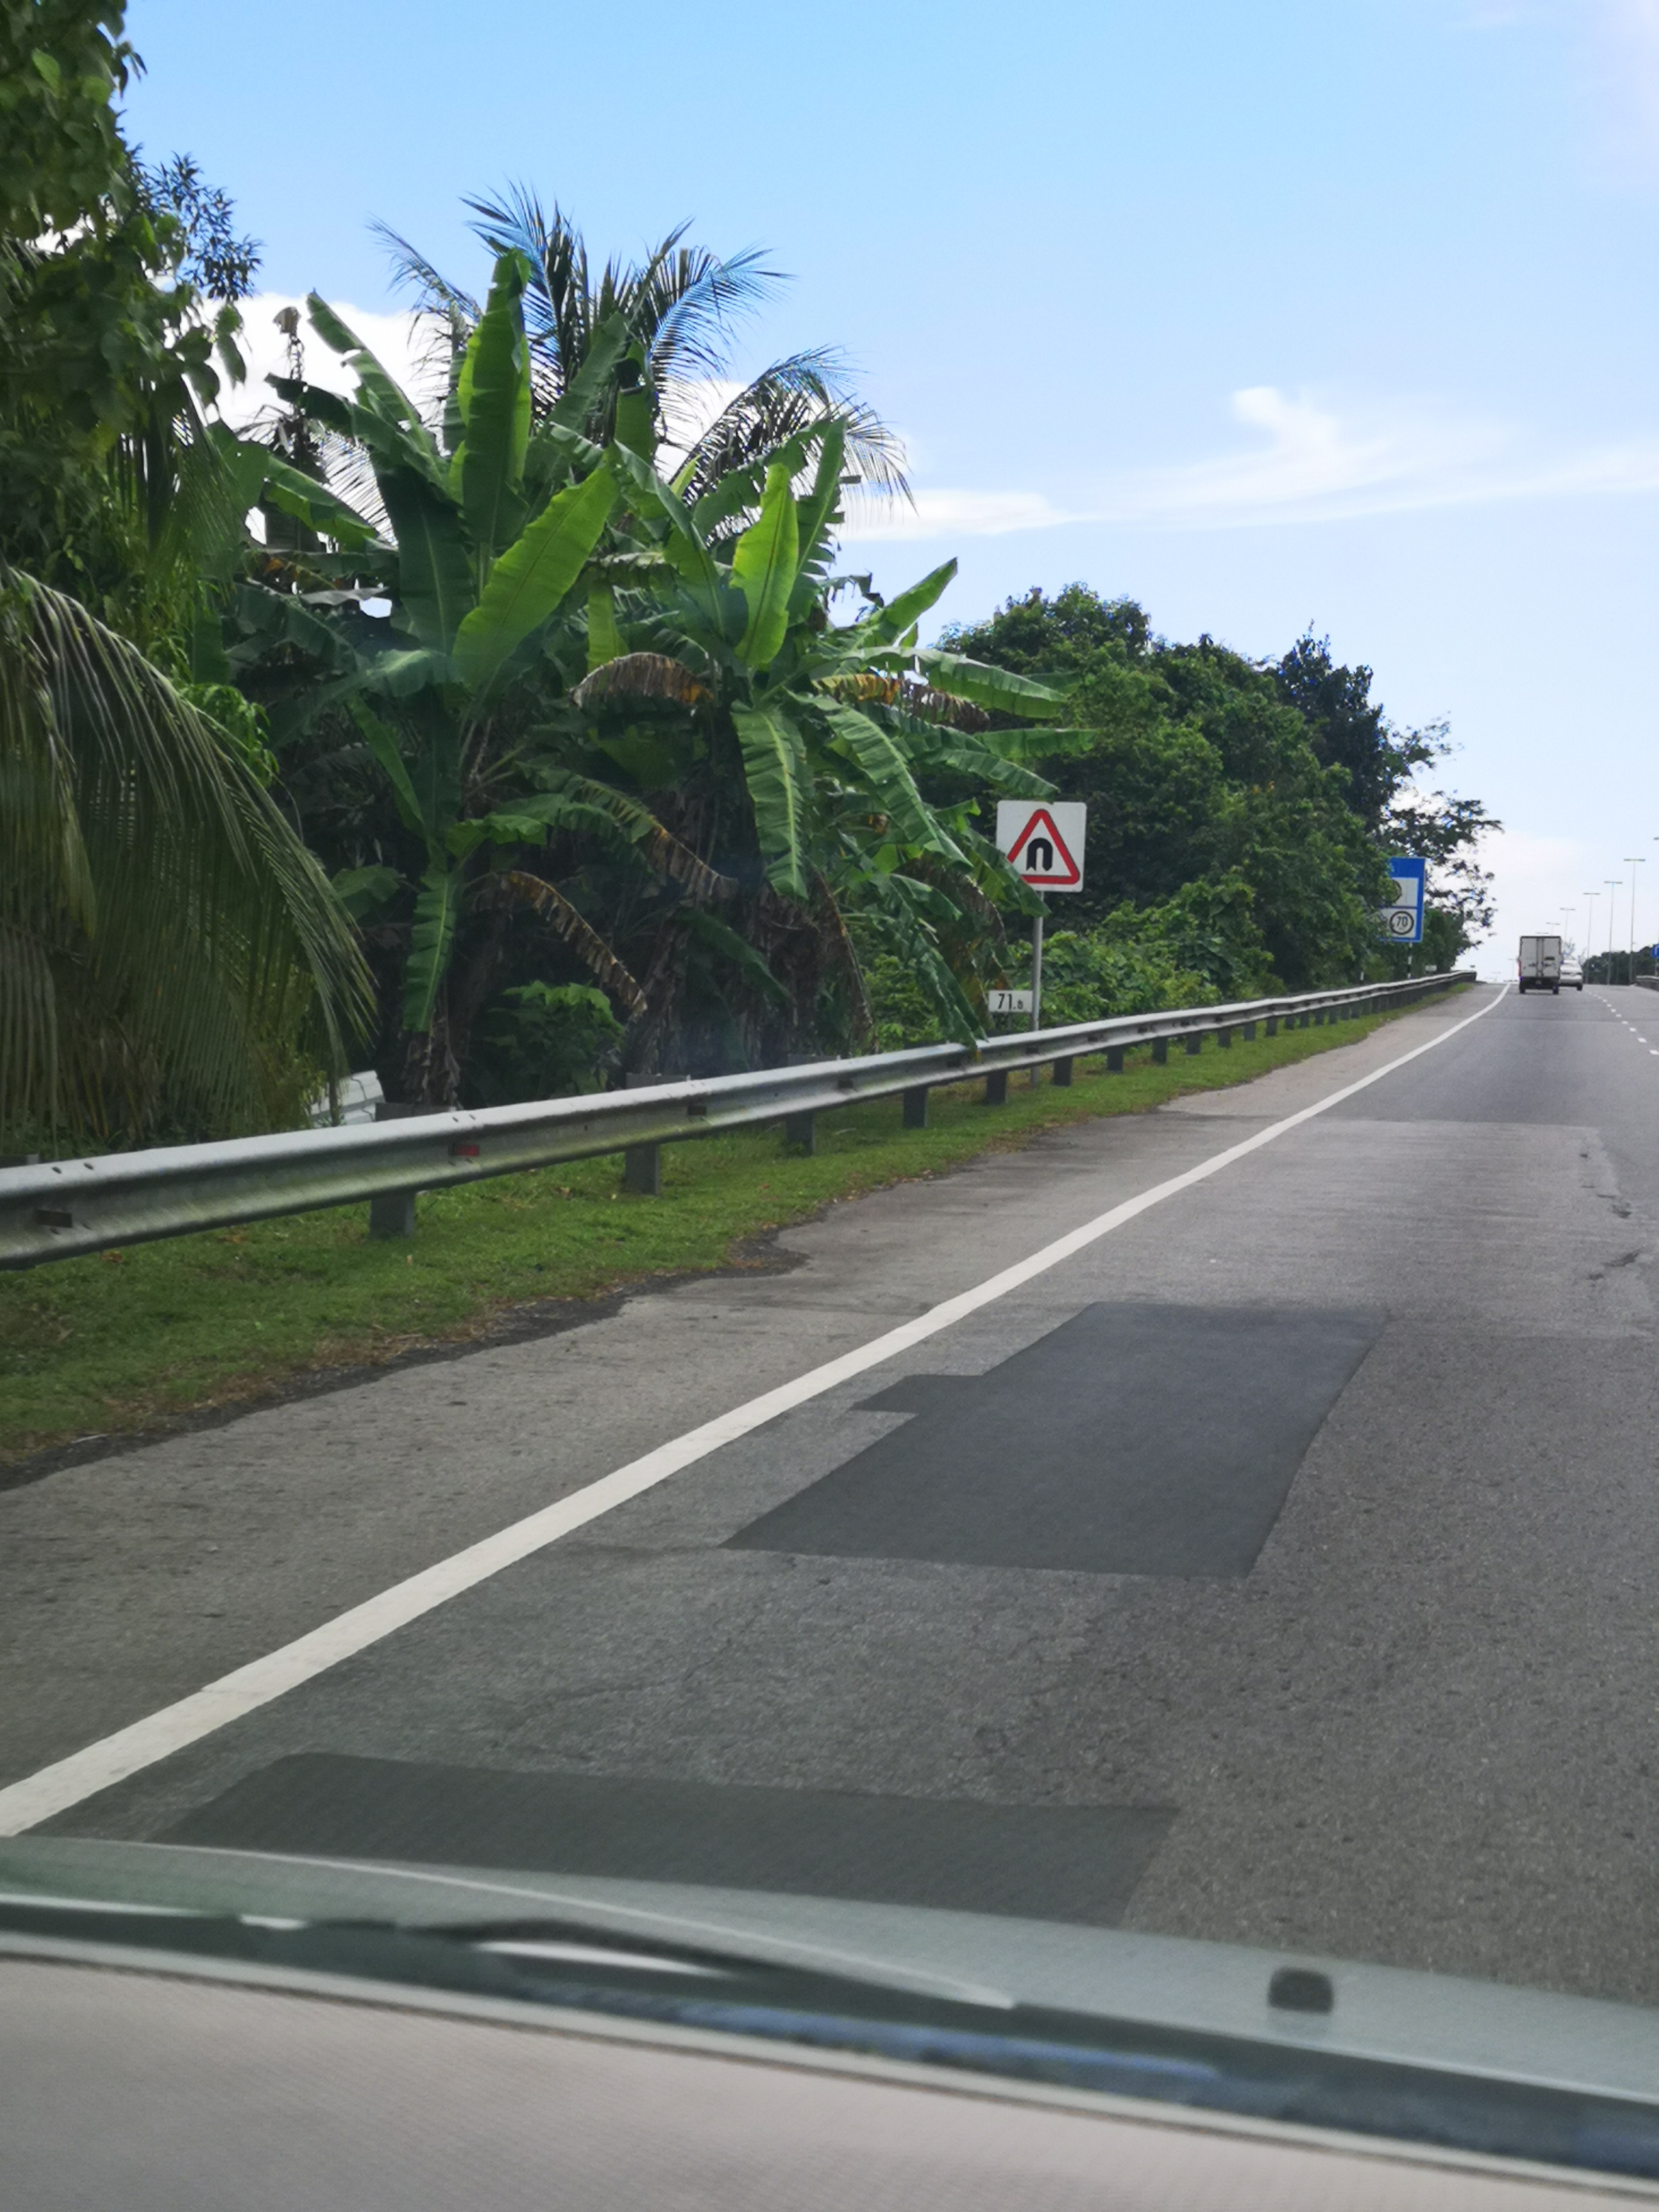U-turn: (986, 798, 1098, 900)
